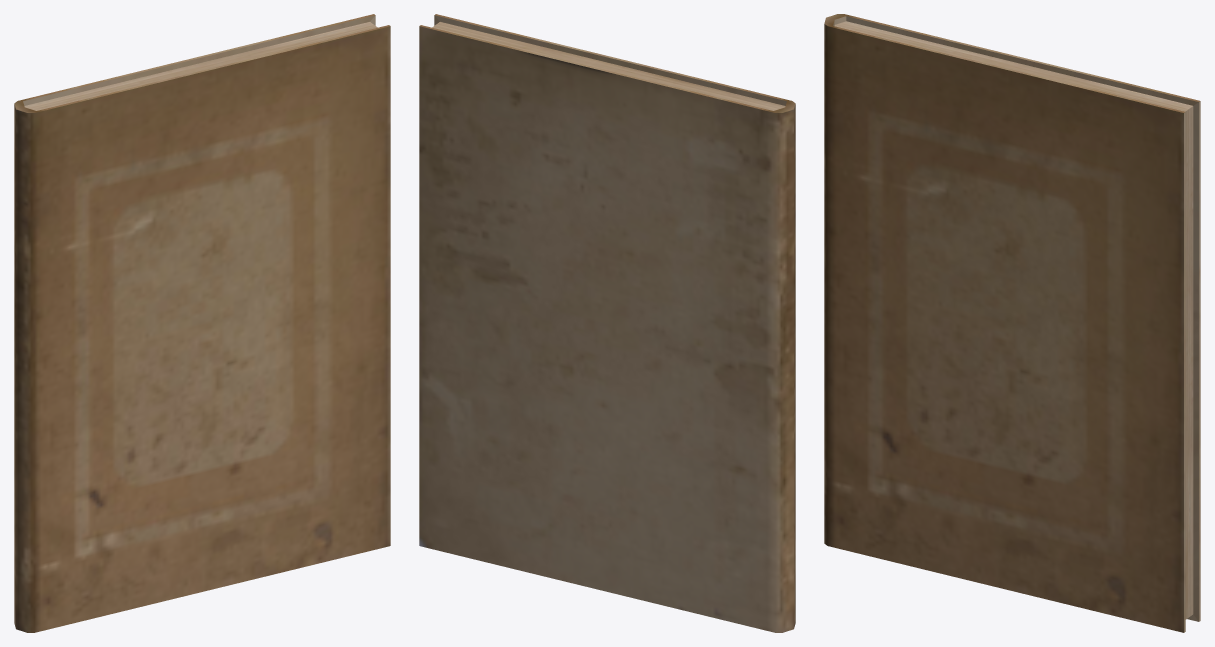
Rendered from SM_Book_Old.032.fbx.
3 renders of one model, left to right at view 1: azimuth 30°, elevation 25°; view 2: azimuth 150°, elevation 25°; view 3: azimuth 330°, elevation 25°, orthographic.
Parts seen in each view (by area): view 1: SM_Book_Old.032; view 2: SM_Book_Old.032; view 3: SM_Book_Old.032.
Boxes of the visible parts, x1=… form: SM_Book_Old.032: x1=14, y1=14, x2=390, y2=632; SM_Book_Old.032: x1=419, y1=14, x2=795, y2=632; SM_Book_Old.032: x1=824, y1=14, x2=1200, y2=632.
Size of the model in its own units: 0.2264 by 0.307 by 0.0178.
